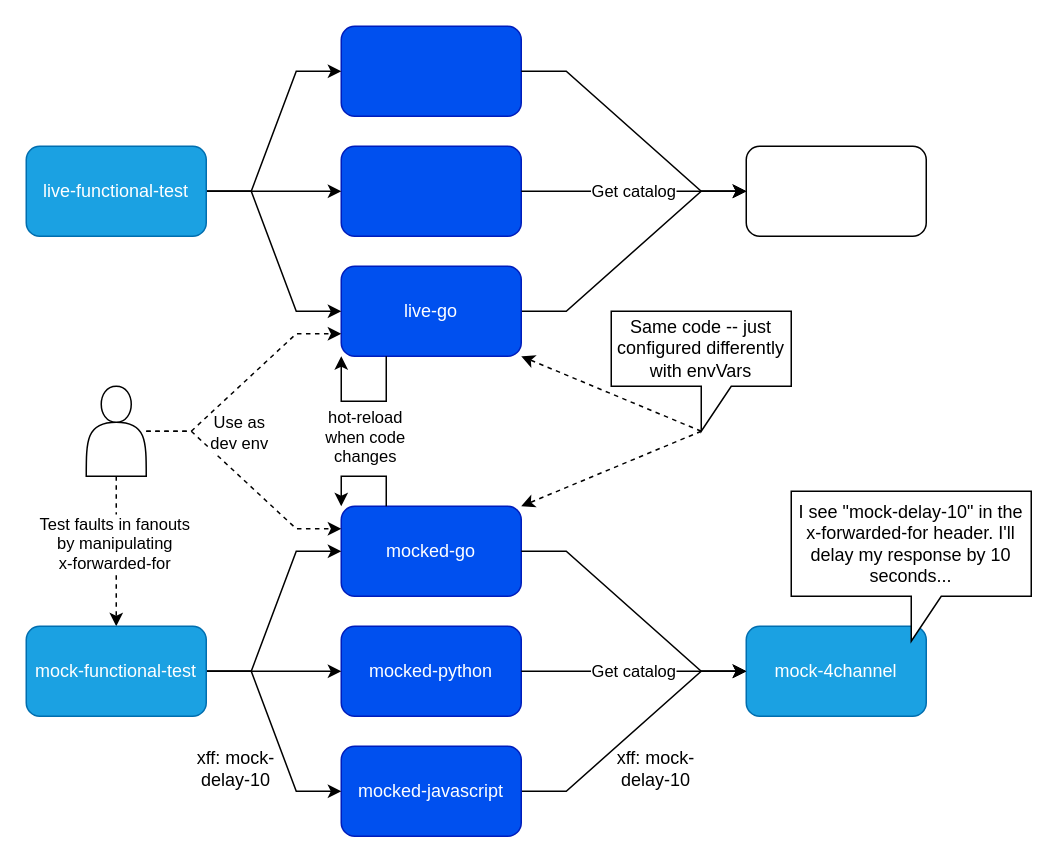
This 1058x863 diagram has some shape labels left out. The shapes that lost their labels are listed below. From the top down, each one's box as (x1, y1, x2, y2) in pixels, then its label:
(340, 25, 521, 116): live-javascript
(340, 145, 521, 236): live-python
(745, 145, 926, 236): 4channel API
(85, 385, 146, 476): Dev
